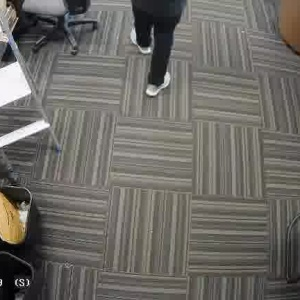person: (122, 0, 199, 104)
